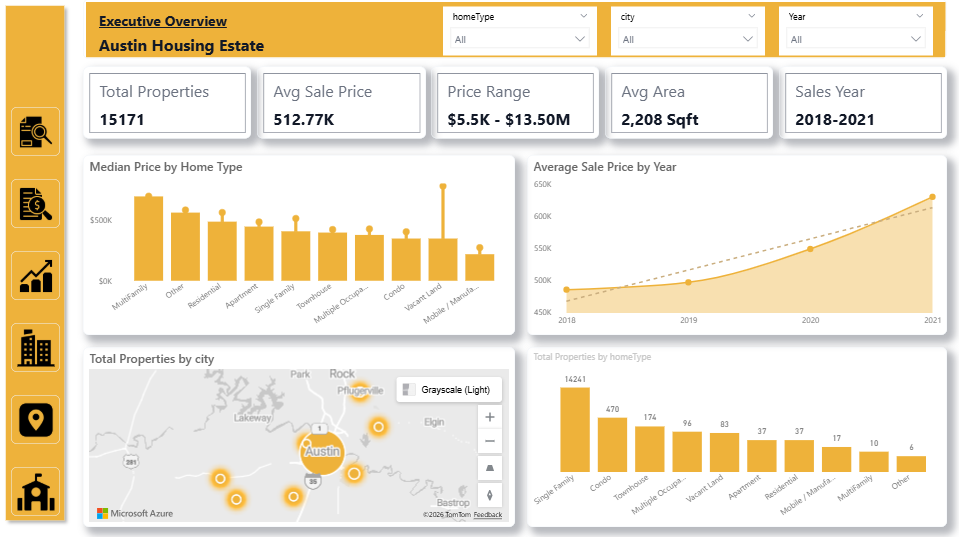

Layout of this report page (visuals, bound fields, positions):
{"tool":"powerbi","page":{"name":" Executive Overview","canvas":[1280,720],"ordinal":0},"visuals":[{"type":"cardVisual","fields":{"Data":["Measure.Total Properties"]},"box":[112,90,224,96],"z":0},{"type":"shape","box":[0,0,96,704],"z":1000},{"type":"cardVisual","fields":{"Data":["Measure.Avg Price"]},"box":[343.8,90,225,96],"z":2000},{"type":"cardVisual","fields":{"Data":["Measure.Price range"]},"box":[576.5,90,224,96],"z":3000},{"type":"cardVisual","fields":{"Data":["Measure.Avg Area"]},"box":[808.2,90,224,96],"z":4000},{"type":"cardVisual","fields":{"Data":["Measure.Sales Year"]},"box":[1040,90,224,96],"z":5000},{"type":"areaChart","title":"Average Sale Price by Year","fields":{"Category":["Fact_Housing.latest_saledate.Variation.Date Hierarchy.Year"],"Y":["Measure.Avg Price"]},"box":[704,208,560,240],"z":6000},{"type":"clusteredColumnChart","title":"Median Price by Home Type","fields":{"Category":["Dim_House_Details.homeType"],"Y":["Median(Fact_Housing.latestPrice)"]},"box":[112,208,576,240],"z":7000},{"type":"azureMap","fields":{"Size":["Measure.Total Properties"],"Category":["Dim_Location.city"]},"box":[112,464,576,240],"z":8000},{"type":"clusteredColumnChart","fields":{"Category":["Dim_House_Details.homeType"],"Y":["Measure.Total Properties"]},"box":[704,464,560,240],"z":9000},{"type":"shape","box":[112,0,1152,80],"z":10000},{"type":"image","box":[16,144,65,65],"z":11000},{"type":"image","box":[16,240,65,65],"z":12000},{"type":"image","box":[16,336,65,65],"z":13000},{"type":"image","box":[16,432,65,65],"z":14000},{"type":"image","box":[16,528,65,65],"z":15000},{"type":"image","box":[16,624,65,65],"z":16000},{"type":"slicer","fields":{"Values":["Fact_Housing.latest_saledate.Variation.Date Hierarchy.Year"]},"box":[1040,10,205,65],"z":17000},{"type":"slicer","fields":{"Values":["Dim_Location.city"]},"box":[816,10,205,65],"z":18000},{"type":"slicer","fields":{"Values":["Dim_House_Details.homeType"]},"box":[592,10,205,65],"z":19000},{"type":"textbox","title":"Executive Overview","box":[128,16,256,64],"z":20000}]}

Visuals, with their boxes in screenshot pixels (x1, y1, x2, y2), scaled from the page's 1280x720 canvas onto the 959x537 screenshot:
cardVisual - Measure.Total Properties: rect(84, 67, 252, 139)
shape: rect(0, 0, 72, 525)
cardVisual - Measure.Avg Price: rect(258, 67, 426, 139)
cardVisual - Measure.Price range: rect(432, 67, 600, 139)
cardVisual - Measure.Avg Area: rect(606, 67, 773, 139)
cardVisual - Measure.Sales Year: rect(779, 67, 947, 139)
"Average Sale Price by Year" areaChart: rect(527, 155, 947, 334)
"Median Price by Home Type" clusteredColumnChart: rect(84, 155, 515, 334)
azureMap - Measure.Total Properties x Dim_Location.city: rect(84, 346, 515, 525)
clusteredColumnChart - Dim_House_Details.homeType x Measure.Total Properties: rect(527, 346, 947, 525)
shape: rect(84, 0, 947, 60)
image: rect(12, 107, 61, 156)
image: rect(12, 179, 61, 227)
image: rect(12, 251, 61, 299)
image: rect(12, 322, 61, 371)
image: rect(12, 394, 61, 442)
image: rect(12, 465, 61, 514)
slicer - Fact_Housing.latest_saledate.Variation.Date Hierarchy.Year: rect(779, 7, 933, 56)
slicer - Dim_Location.city: rect(611, 7, 765, 56)
slicer - Dim_House_Details.homeType: rect(444, 7, 597, 56)
"Executive Overview" textbox: rect(96, 12, 288, 60)
